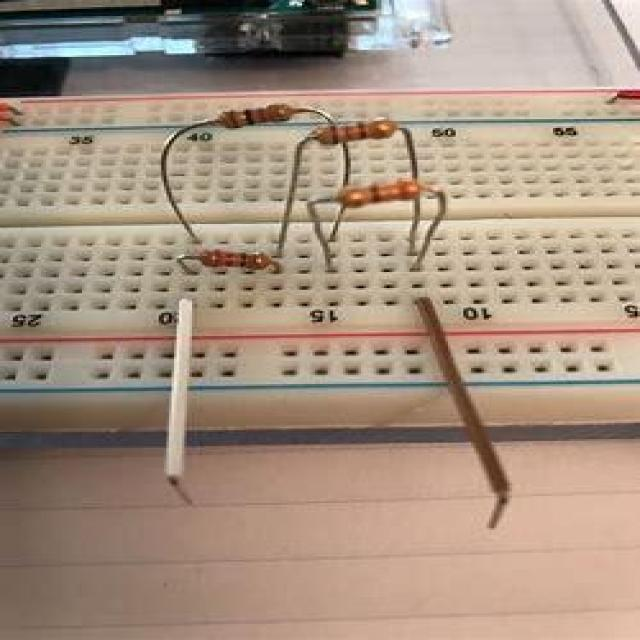Resistor: (160, 104, 334, 243), (281, 121, 418, 256), (308, 179, 446, 269), (182, 249, 279, 272)
